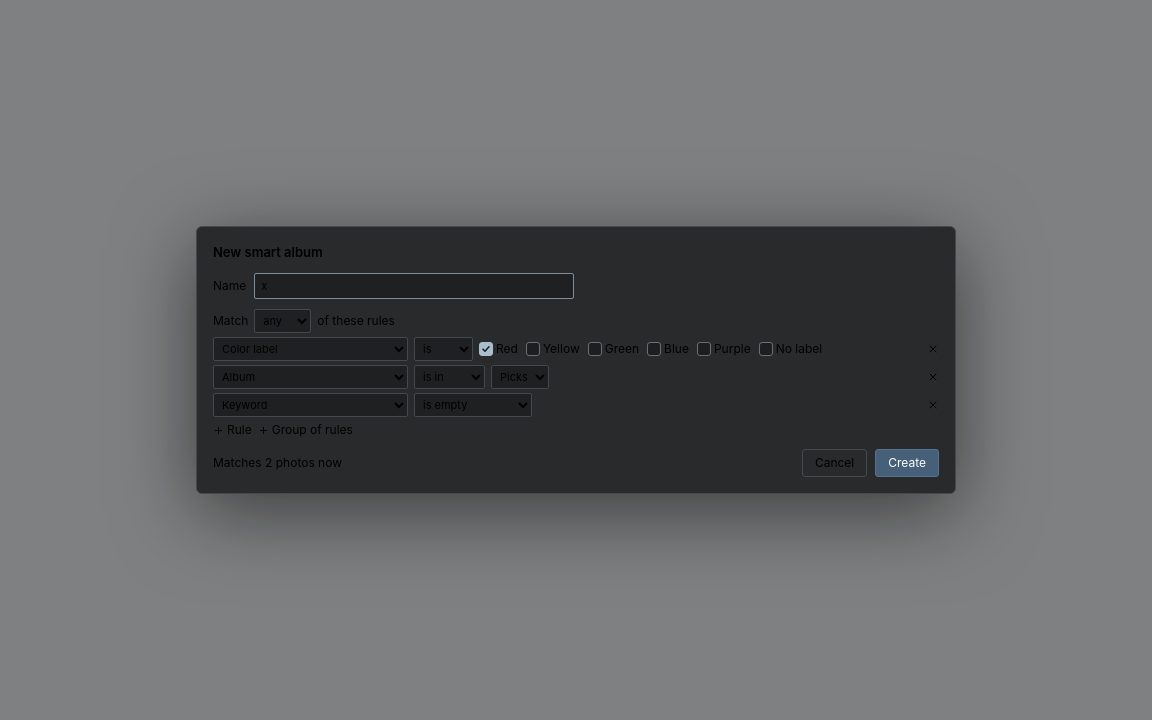
Scenario: smart album editor › offers choices, albums and nothing to type where a rule needs none
Click the checkbox labelled "Red": (486, 349) [479, 342, 493, 356]
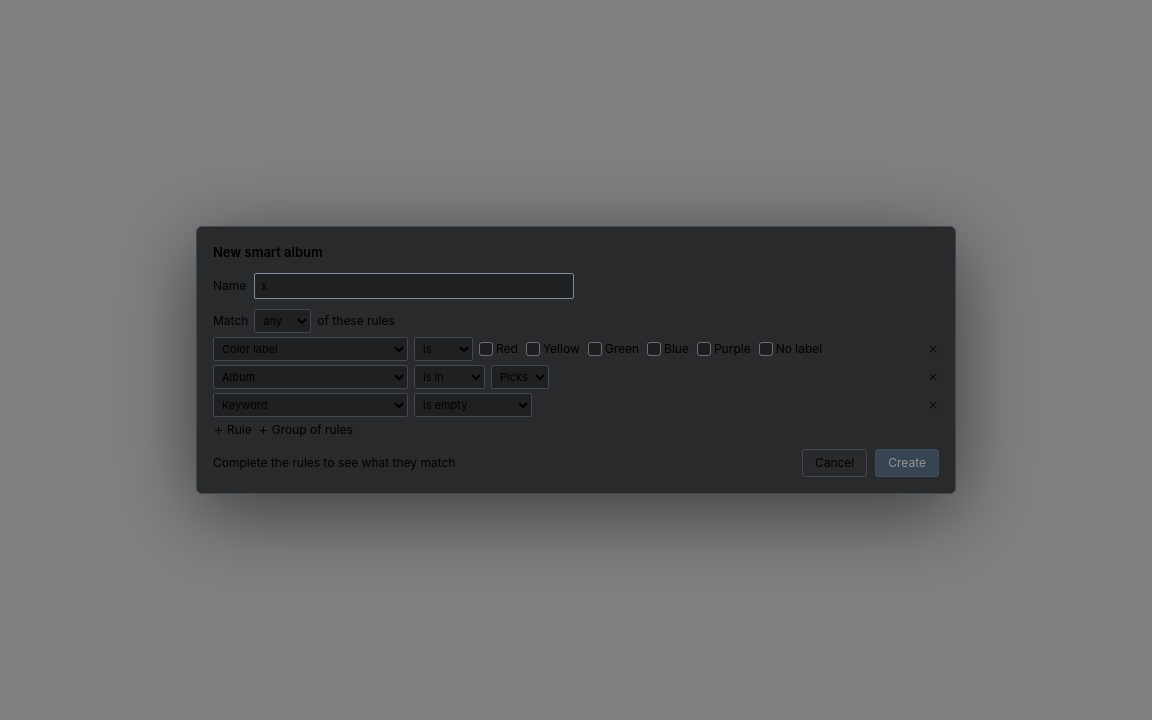
Expected: the button "Create" is disabled, [875, 449, 939, 477]
Click the checkbox labelled "No label": (766, 349) [759, 342, 773, 356]
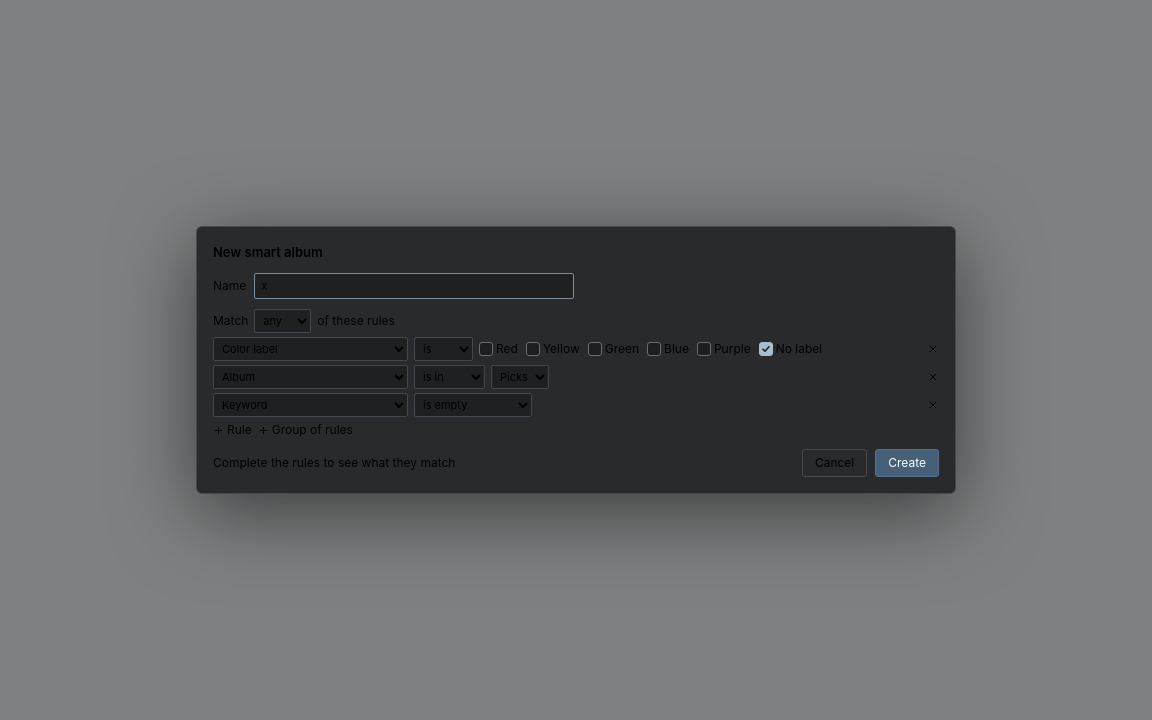
Expected: the button "Create" is enabled, [875, 449, 939, 477]
